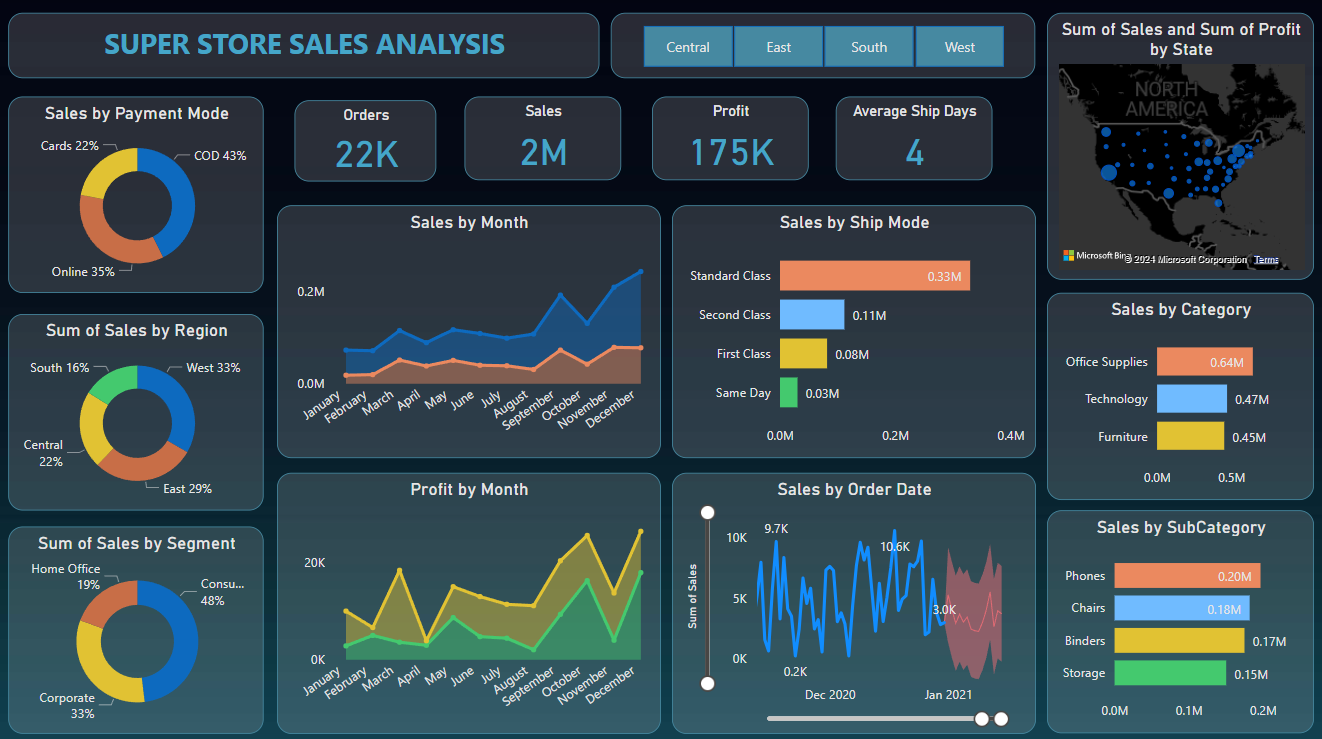

The page's visual inventory and layout, read from the dashboard file:
{"tool":"powerbi","page":{"name":"Page 1","canvas":[1280,720],"ordinal":0},"visuals":[{"type":"clusteredBarChart","title":"Sales by Category","fields":{"Category":["SuperStore_Sales_Dataset.Category"],"Y":["Sum(SuperStore_Sales_Dataset.Sales)"]},"box":[1013.2,283.8,257.8,200.2],"z":0},{"type":"clusteredBarChart","title":"Sales by SubCategory","fields":{"Y":["Sum(SuperStore_Sales_Dataset.Sales)"],"Category":["SuperStore_Sales_Dataset.Sub-Category"]},"box":[1013.2,493.6,257.8,215.3],"z":1000},{"type":"clusteredBarChart","title":"Sales by Ship Mode","fields":{"Y":["Sum(SuperStore_Sales_Dataset.Sales)"],"Category":["SuperStore_Sales_Dataset.Ship Mode"]},"box":[651.2,198.8,351,244],"z":2000},{"type":"stackedAreaChart","title":"Profit by Month","fields":{"Category":["SuperStore_Sales_Dataset.Order Date.Variation.Date Hierarchy.Month","SuperStore_Sales_Dataset.Order Date.Variation.Date Hierarchy.Day"],"Series":["SuperStore_Sales_Dataset.Order Date.Variation.Date Hierarchy.Year"],"Y":["Sum(SuperStore_Sales_Dataset.Profit)"]},"box":[270.1,456.6,370.2,252.3],"z":3000},{"type":"stackedAreaChart","title":"Sales by Month","fields":{"Y":["Sum(SuperStore_Sales_Dataset.Sales)"],"Category":["SuperStore_Sales_Dataset.Order Date.Variation.Date Hierarchy.Month","SuperStore_Sales_Dataset.Order Date.Variation.Date Hierarchy.Day"],"Series":["SuperStore_Sales_Dataset.Order Date.Variation.Date Hierarchy.Year"]},"box":[270.1,198.8,370.2,244],"z":4000},{"type":"map","fields":{"Category":["SuperStore_Sales_Dataset.State"],"Size":["Sum(SuperStore_Sales_Dataset.Sales)"]},"box":[1013.2,13.7,257.8,257.8],"z":5000},{"type":"donutChart","fields":{"Category":["SuperStore_Sales_Dataset.Segment"],"Y":["Sum(SuperStore_Sales_Dataset.Sales)"]},"box":[11,508.7,246.8,200.2],"z":6000},{"type":"donutChart","fields":{"Y":["Sum(SuperStore_Sales_Dataset.Sales)"],"Category":["SuperStore_Sales_Dataset.Region"]},"box":[11,304.4,246.8,189.2],"z":7000},{"type":"donutChart","title":"Sales by Payment Mode","fields":{"Y":["Sum(SuperStore_Sales_Dataset.Sales)"],"Category":["SuperStore_Sales_Dataset.Payment Mode"]},"box":[11,94.6,246.8,189.2],"z":8000},{"type":"slicer","fields":{"Values":["SuperStore_Sales_Dataset.Region"]},"box":[592.3,13.8,409.2,63.1],"z":9000},{"type":"textbox","box":[11,13.7,570.4,63.1],"z":10000},{"type":"card","title":"Orders","fields":{"Values":["Sum(SuperStore_Sales_Dataset.Quantity)"]},"box":[286.5,97.3,137.1,78.1],"z":11000},{"type":"card","title":"Sales","fields":{"Values":["Sum(SuperStore_Sales_Dataset.Sales)"]},"box":[451.1,94.6,150.8,80.9],"z":12000},{"type":"card","title":"Profit","fields":{"Values":["Sum(SuperStore_Sales_Dataset.Profit)"]},"box":[632.1,94.6,150.8,80.9],"z":13000},{"type":"card","title":"Average Ship Days","fields":{"Values":["Avg(SuperStore_Sales_Dataset.AvgDelivery)"]},"box":[808.9,94.6,150.8,80.9],"z":14000},{"type":"lineChart","title":"Sales by Order Date","fields":{"Y":["Sum(SuperStore_Sales_Dataset.Sales)"],"Category":["SuperStore_Sales_Dataset.Order Date"]},"box":[651.2,456.6,351,252.3],"z":15000}]}

Visuals, with their boxes in screenshot pixels (x1, y1, x2, y2), scaled from the page's 1280x720 canvas onto the 1322x739 screenshot:
"Sales by Category" clusteredBarChart: Rect(1046, 291, 1313, 497)
"Sales by SubCategory" clusteredBarChart: Rect(1046, 507, 1313, 728)
"Sales by Ship Mode" clusteredBarChart: Rect(673, 204, 1035, 454)
"Profit by Month" stackedAreaChart: Rect(279, 469, 661, 728)
"Sales by Month" stackedAreaChart: Rect(279, 204, 661, 454)
map - SuperStore_Sales_Dataset.State x Sum(SuperStore_Sales_Dataset.Sales): Rect(1046, 14, 1313, 279)
donutChart - SuperStore_Sales_Dataset.Segment x Sum(SuperStore_Sales_Dataset.Sales): Rect(11, 522, 266, 728)
donutChart - Sum(SuperStore_Sales_Dataset.Sales) x SuperStore_Sales_Dataset.Region: Rect(11, 312, 266, 507)
"Sales by Payment Mode" donutChart: Rect(11, 97, 266, 291)
slicer - SuperStore_Sales_Dataset.Region: Rect(612, 14, 1034, 79)
textbox: Rect(11, 14, 600, 79)
"Orders" card: Rect(296, 100, 437, 180)
"Sales" card: Rect(466, 97, 622, 180)
"Profit" card: Rect(653, 97, 809, 180)
"Average Ship Days" card: Rect(835, 97, 991, 180)
"Sales by Order Date" lineChart: Rect(673, 469, 1035, 728)
